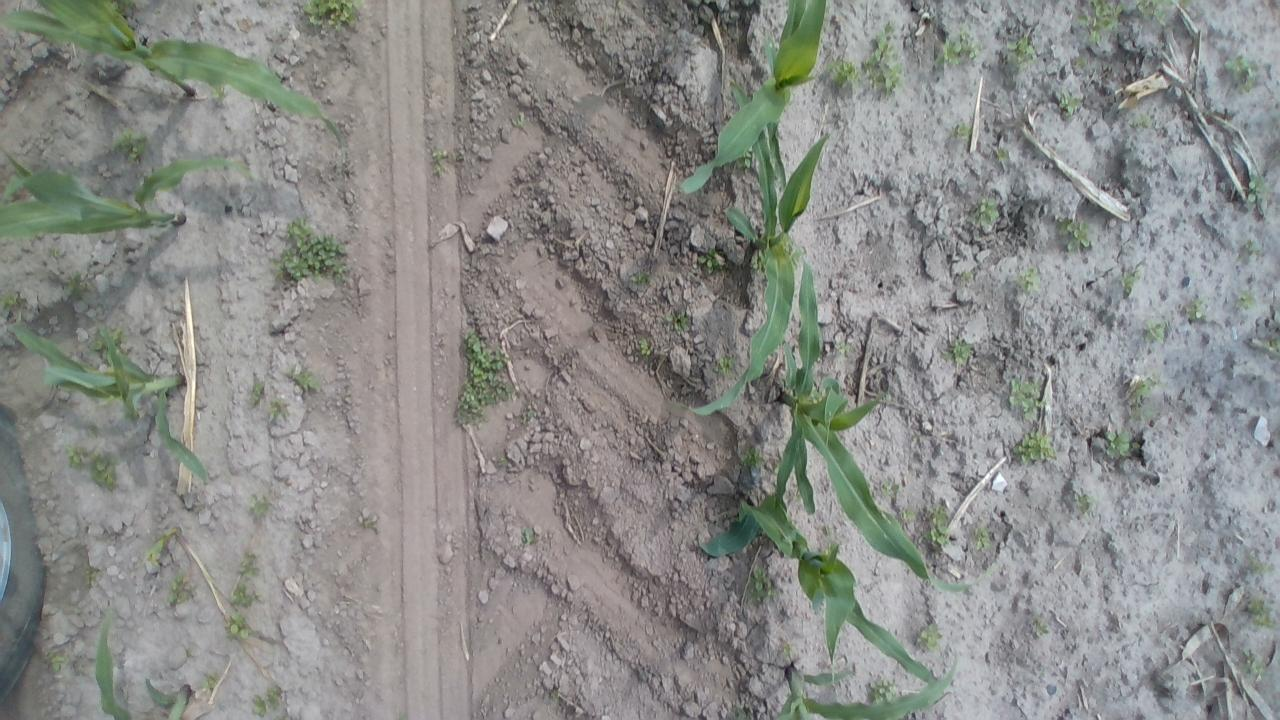Maize: (697, 229, 986, 592), (0, 0, 350, 153), (712, 484, 954, 688), (681, 126, 838, 424), (6, 317, 210, 486), (678, 2, 831, 200), (2, 148, 264, 236), (764, 652, 962, 719), (90, 607, 204, 718), (144, 524, 183, 570)
Weeds: (454, 322, 516, 426), (272, 218, 351, 289), (860, 20, 904, 96), (68, 446, 120, 492), (936, 26, 980, 71), (1076, 2, 1121, 45), (1006, 374, 1048, 420), (300, 0, 362, 31), (1012, 428, 1058, 466), (1222, 54, 1260, 92), (1056, 216, 1094, 253), (112, 128, 152, 162), (924, 502, 952, 548), (967, 194, 1000, 231), (748, 566, 780, 604), (1104, 425, 1138, 460), (1130, 0, 1172, 25), (250, 686, 284, 716), (1128, 374, 1156, 410), (828, 58, 859, 90), (1005, 35, 1035, 67), (944, 336, 974, 366), (1246, 594, 1274, 626), (286, 366, 319, 393), (1240, 647, 1267, 680), (224, 613, 253, 642), (168, 576, 194, 608), (914, 623, 941, 653), (740, 442, 765, 474), (228, 584, 258, 610), (700, 244, 724, 276), (235, 554, 264, 580), (868, 677, 898, 702), (784, 238, 806, 272), (249, 491, 276, 518), (1244, 174, 1266, 206), (1014, 268, 1039, 296), (43, 649, 68, 675), (1144, 318, 1168, 344), (1058, 91, 1082, 116), (426, 147, 449, 173), (266, 396, 288, 423), (1, 290, 27, 312), (972, 525, 992, 553), (1118, 270, 1139, 296), (1074, 492, 1096, 516), (248, 377, 267, 404), (1235, 289, 1258, 311), (669, 312, 690, 336), (1130, 112, 1156, 131), (1185, 298, 1207, 320), (716, 356, 736, 380), (1248, 556, 1272, 576), (1032, 613, 1051, 638), (65, 274, 84, 298), (879, 479, 904, 497), (951, 118, 971, 140), (90, 329, 110, 350), (751, 252, 768, 276), (360, 513, 380, 533), (200, 672, 222, 690), (1242, 240, 1261, 260), (112, 0, 140, 13), (736, 150, 752, 172), (734, 704, 756, 720), (630, 268, 652, 284), (44, 244, 65, 260), (110, 326, 128, 344), (82, 565, 100, 583), (996, 147, 1013, 165), (779, 640, 796, 658), (521, 525, 536, 545), (511, 113, 528, 130), (1263, 334, 1277, 354), (956, 267, 974, 282), (638, 340, 652, 359), (834, 340, 850, 356), (806, 387, 822, 403), (212, 86, 228, 102), (824, 540, 840, 554), (901, 504, 915, 520), (494, 454, 509, 468), (1074, 56, 1088, 68), (550, 694, 562, 706), (824, 524, 834, 536), (1178, 0, 1192, 8), (724, 513, 730, 518)
